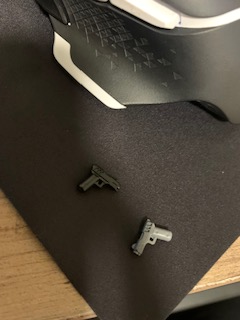pistol: (70, 159, 122, 199), (129, 217, 175, 255)
